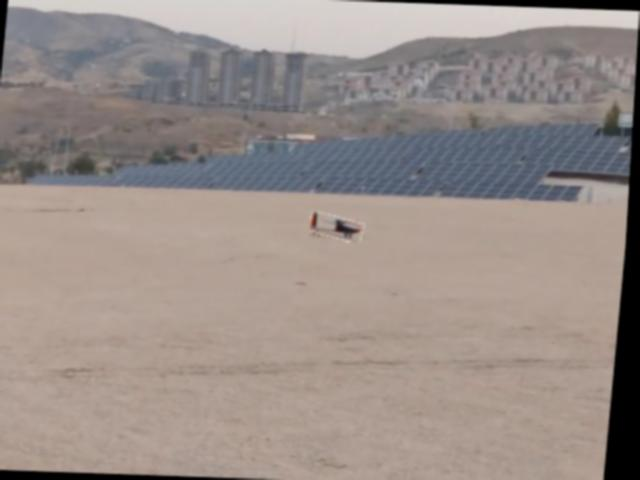insansiz-hava-araci: (311, 214, 368, 241)
